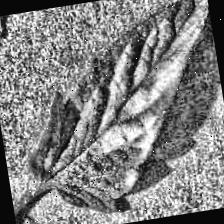leaf mold: (11, 0, 224, 220)
